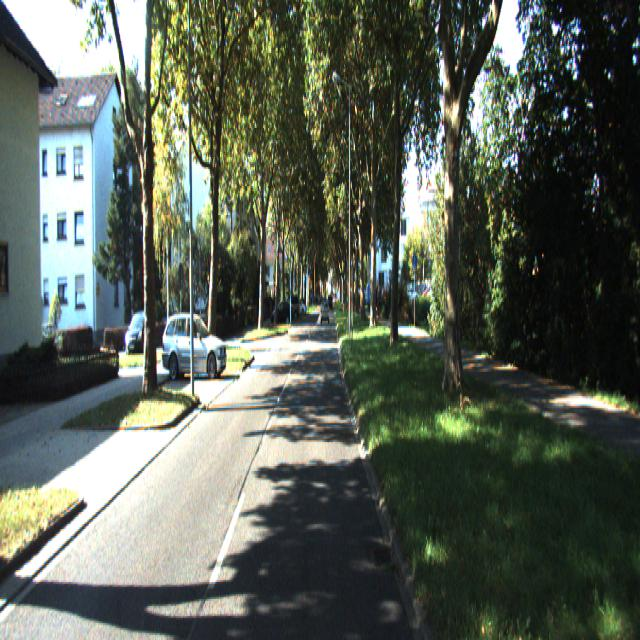Car: (159, 317, 229, 384)
